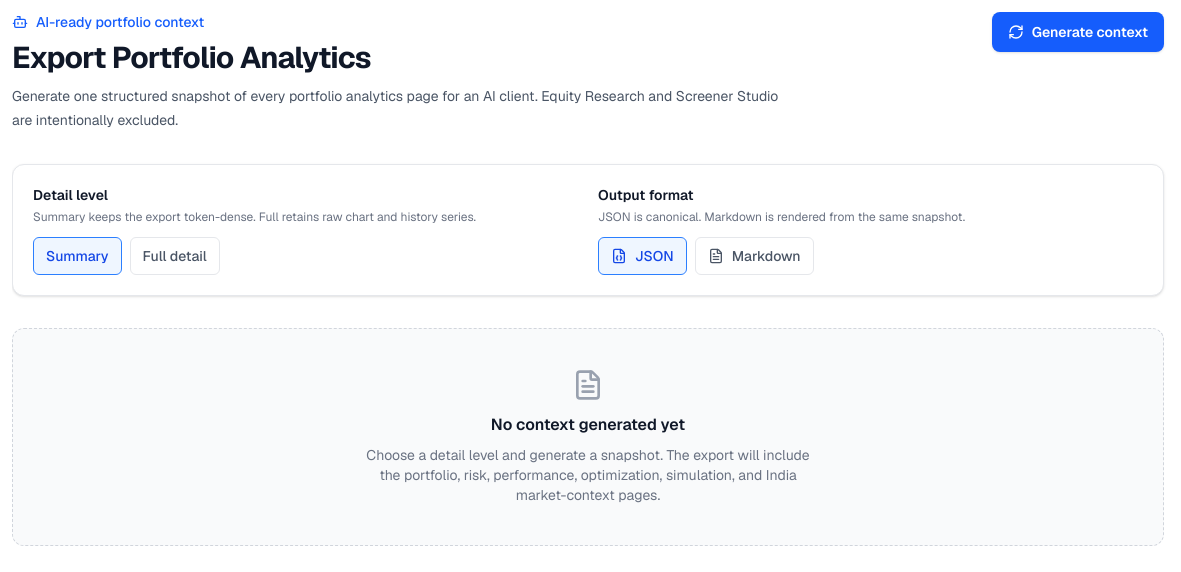
Scenario: AI context export page › passes the selected full-detail and Markdown options to the API
Click the button "Full detail": (175, 256) [130,237,220,275]
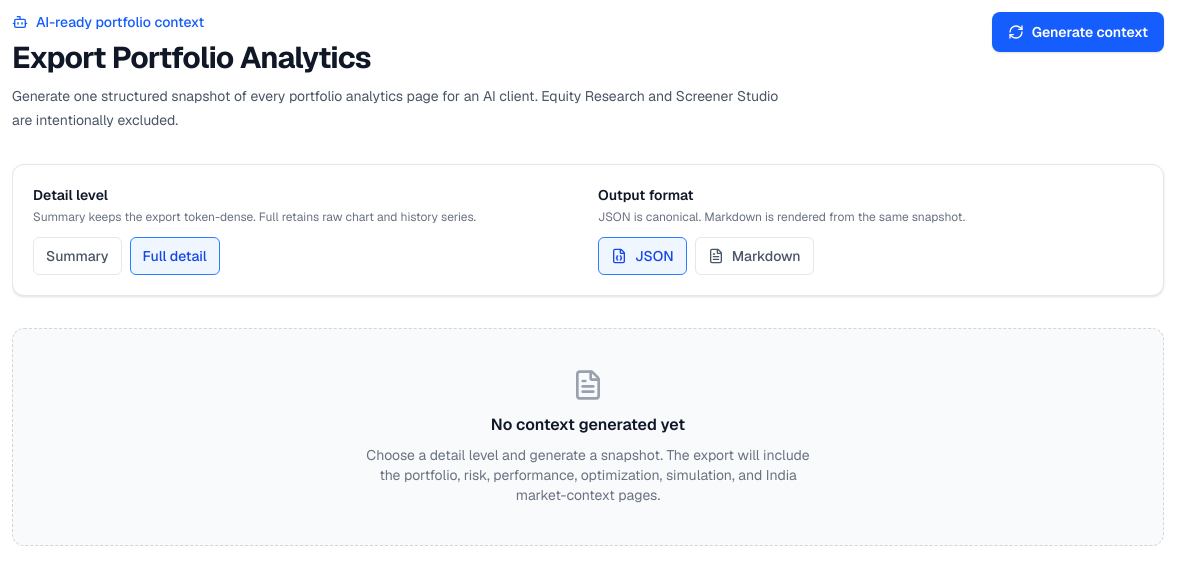
Click the button "Markdown": (754, 256) [695,237,814,275]
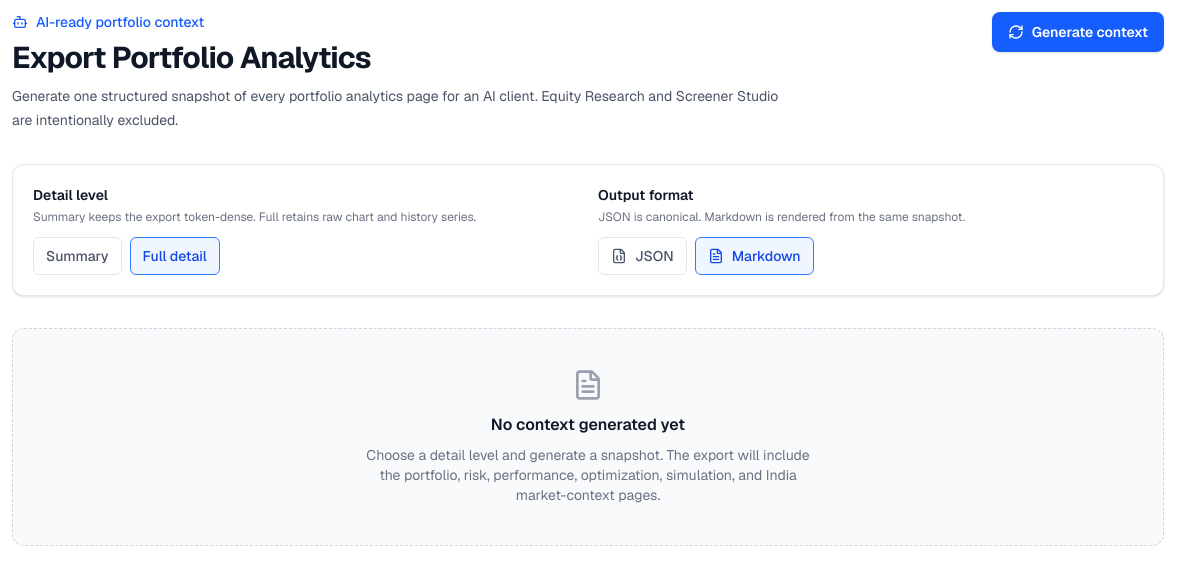
Click the button with test id "generate-ai-context": (1078, 32) [992,12,1164,52]
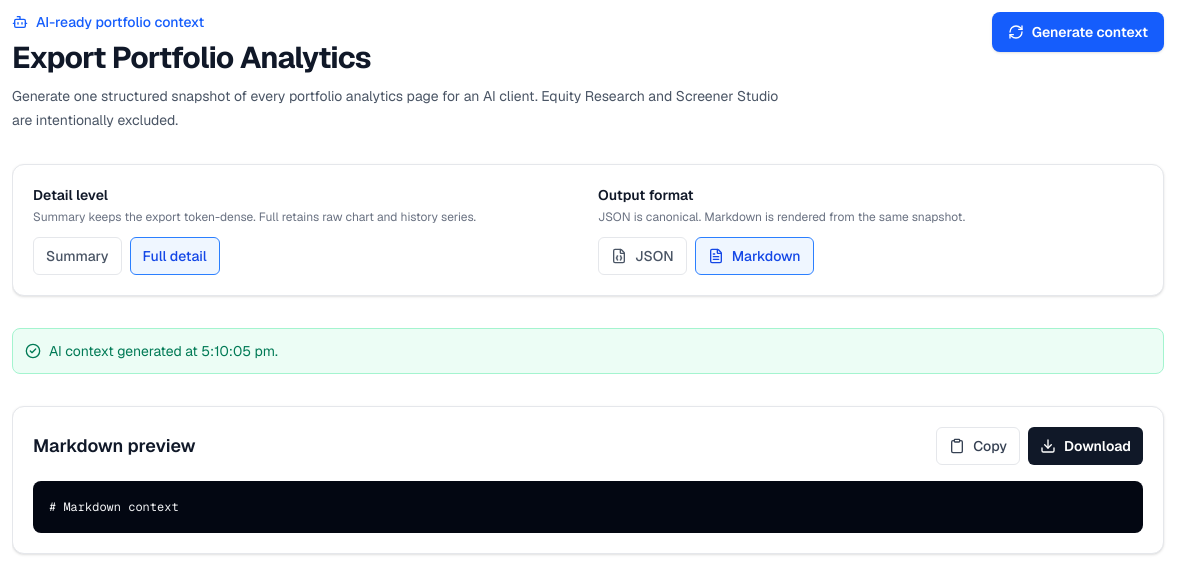
expect the text "# Markdown context" is shown: met, box [33,481,1143,533]
expect the button "Download" is shown: met, box [1028,427,1143,465]
